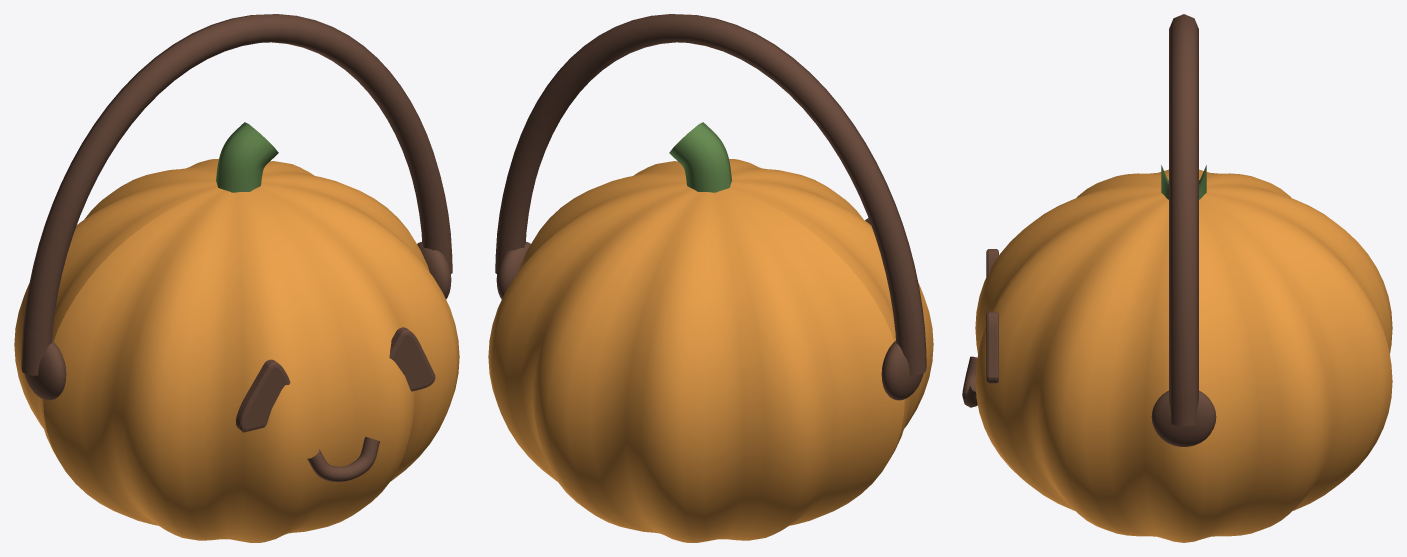
The model's file is pumpkin-lantern.glb.
The picture shows the model from 3 angles, left to right: view 1: azimuth 30°, elevation 25°; view 2: azimuth 150°, elevation 25°; view 3: azimuth 270°, elevation 25°; orthographic projection. The views are drawn at different scales.
Visible parts, largest first — view 1: Pumpkin_ribbed_shell, Pumpkin_handle_arch, Pumpkin_stem, Pumpkin_eye_-1, Pumpkin_eye_1, Pumpkin_handle_hinge_-1, Pumpkin_smile, Pumpkin_handle_hinge_1; view 2: Pumpkin_ribbed_shell, Pumpkin_handle_arch, Pumpkin_stem, Pumpkin_handle_hinge_-1, Pumpkin_handle_hinge_1; view 3: Pumpkin_ribbed_shell, Pumpkin_handle_arch, Pumpkin_handle_hinge_1, Pumpkin_eye_1, Pumpkin_smile.
Boxes of the visible parts, x1,y1,x2,y2 form: Pumpkin_ribbed_shell: (14,159,459,542); Pumpkin_handle_arch: (21,14,452,375); Pumpkin_stem: (216,122,278,192); Pumpkin_eye_-1: (236,359,290,432); Pumpkin_eye_1: (389,327,435,391); Pumpkin_handle_hinge_-1: (24,341,66,400); Pumpkin_smile: (307,437,379,481); Pumpkin_handle_hinge_1: (417,242,451,299); Pumpkin_ribbed_shell: (488,159,933,542); Pumpkin_handle_arch: (495,14,926,375); Pumpkin_stem: (669,122,731,192); Pumpkin_handle_hinge_-1: (881,341,923,400); Pumpkin_handle_hinge_1: (496,242,530,299); Pumpkin_ribbed_shell: (975,169,1392,542); Pumpkin_handle_arch: (1169,14,1198,426); Pumpkin_handle_hinge_1: (1151,390,1216,446); Pumpkin_eye_1: (986,311,998,383); Pumpkin_smile: (962,356,977,407).
Bounding box in the file's own units: 0.7459 × 0.833 × 0.6656.
